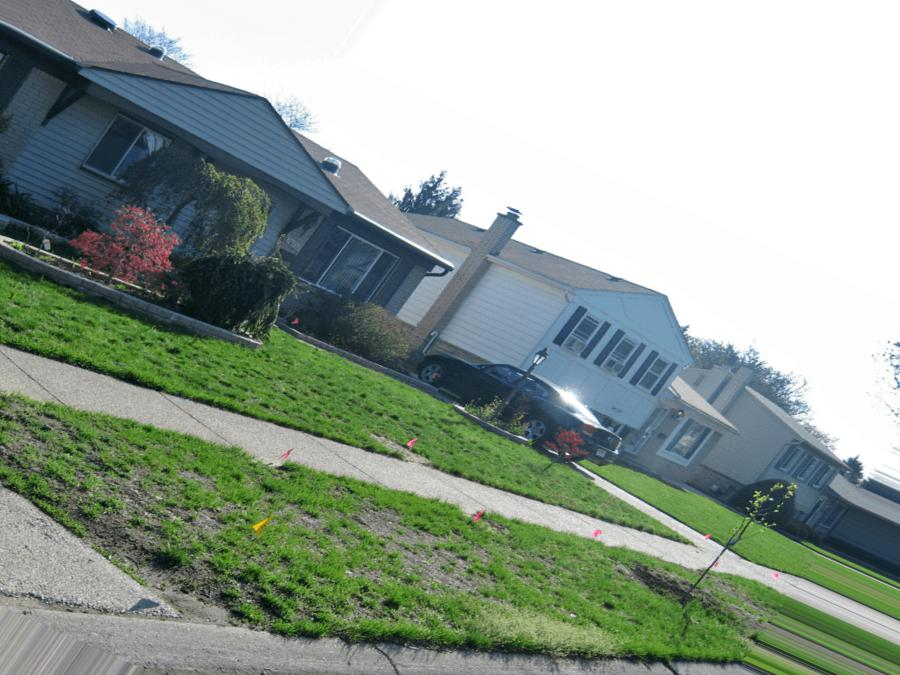patch: (375, 514, 438, 578), (455, 539, 485, 578), (297, 505, 324, 529)
